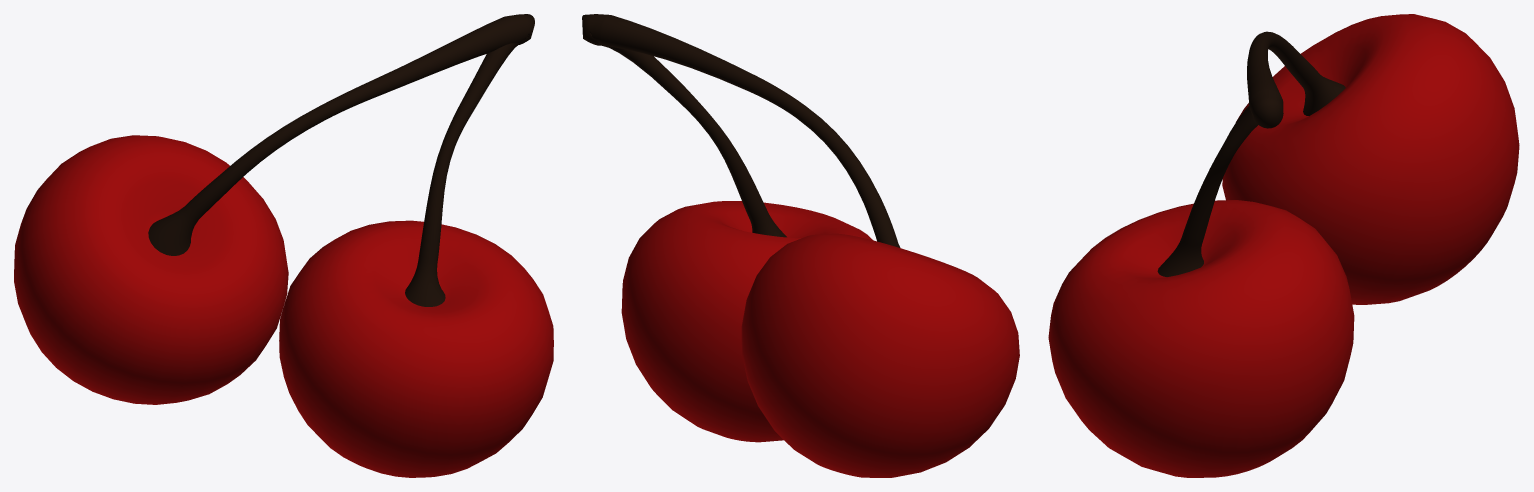
File: cherry.FBX
The picture shows the model from 3 angles, left to right: view 1: azimuth 30°, elevation 25°; view 2: azimuth 150°, elevation 25°; view 3: azimuth 270°, elevation 25°; orthographic projection. The views are drawn at different scales.
Visible parts, largest first — view 1: cherry2, cherry1, cherrystem; view 2: cherry2, cherry1, cherrystem; view 3: cherry1, cherry2, cherrystem.
Boxes of the visible parts, x1,y1,x2,y2 form: cherry2: [14, 135, 288, 404]; cherry1: [279, 220, 553, 477]; cherrystem: [148, 14, 534, 306]; cherry2: [741, 233, 1019, 477]; cherry1: [621, 201, 872, 442]; cherrystem: [582, 14, 900, 247]; cherry1: [1048, 200, 1354, 477]; cherry2: [1222, 14, 1519, 304]; cherrystem: [1157, 31, 1345, 276].
Size of the model in its own units: 22.88 by 19.01 by 18.4.
